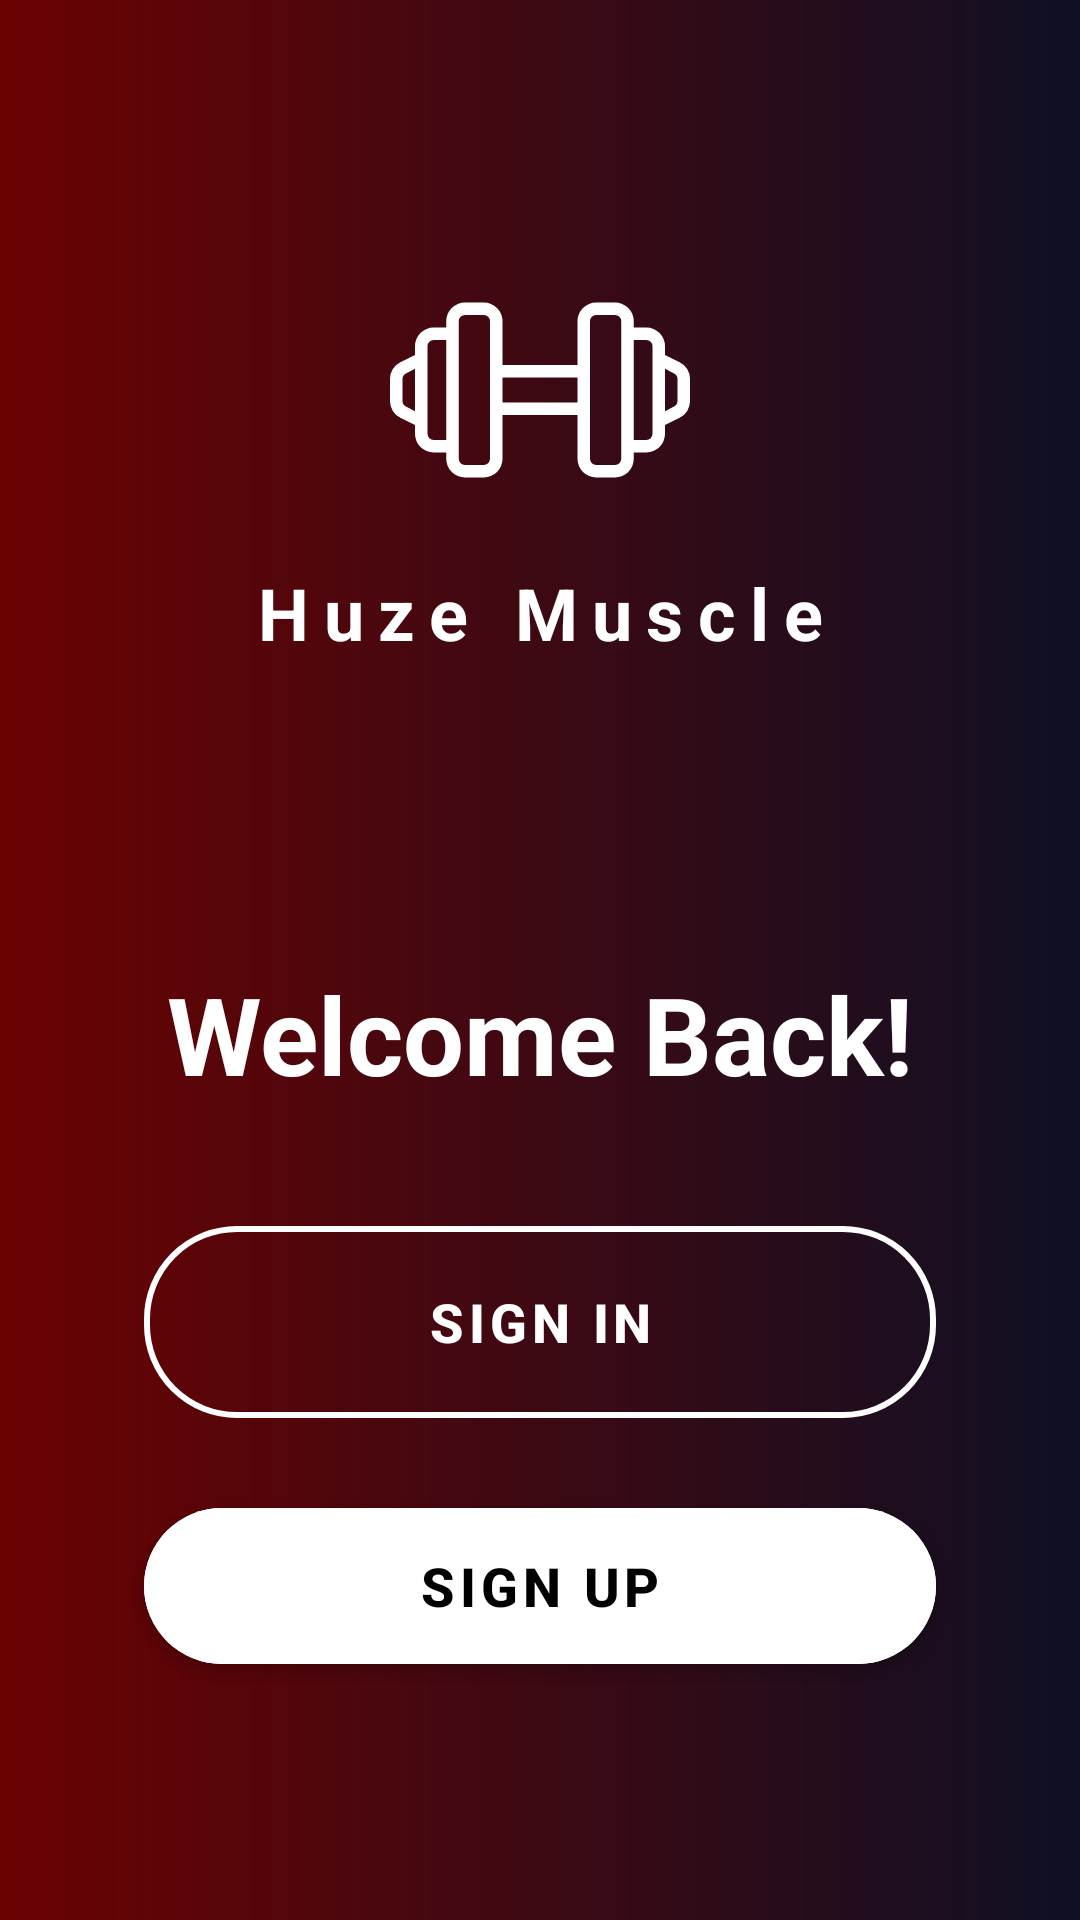

Where icons sit on this 1080x1920 app screen, as (x1, y1, x2, y2):
dumbell: (390, 240, 690, 540)
